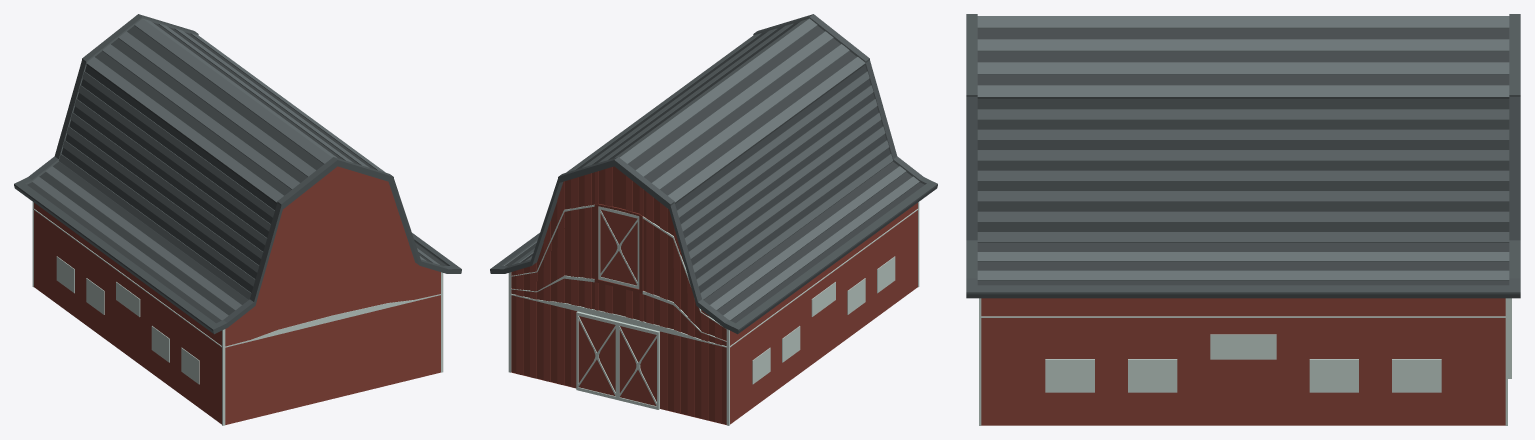
File: Barn.glb
3 views of the same model, side by side, from view 1: azimuth 30°, elevation 25°; view 2: azimuth 150°, elevation 25°; view 3: azimuth 270°, elevation 25° (orthographic). The views are drawn at different scales.
Parts seen in each view (by area): view 1: Barn Roof, Barn; view 2: Barn Roof, Barn, Barn Doors.001, Barn Doors, Barn Door top; view 3: Barn Roof, Barn.
Part boxes in pixels (left/top/right/bottom): Barn Roof: left=14, top=14, right=461, bottom=334; Barn: left=32, top=166, right=443, bottom=425; Barn Roof: left=490, top=14, right=937, bottom=334; Barn: left=508, top=166, right=919, bottom=425; Barn Doors.001: left=617, top=321, right=659, bottom=409; Barn Doors: left=576, top=311, right=618, bottom=399; Barn Door top: left=598, top=206, right=639, bottom=288; Barn Roof: left=966, top=14, right=1520, bottom=298; Barn: left=979, top=298, right=1507, bottom=425.
Bounding box in the file's own units: 8.7 × 8.12 × 12.1.
Materials: 6 (6 with a texture image).
